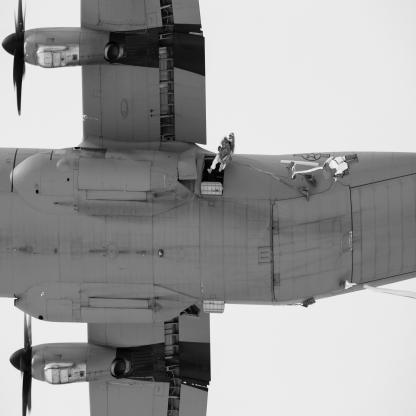C130: (1, 1, 416, 416)
